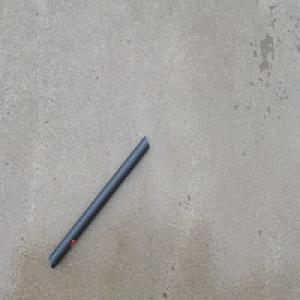LuggagePart: (47, 135, 150, 270)
